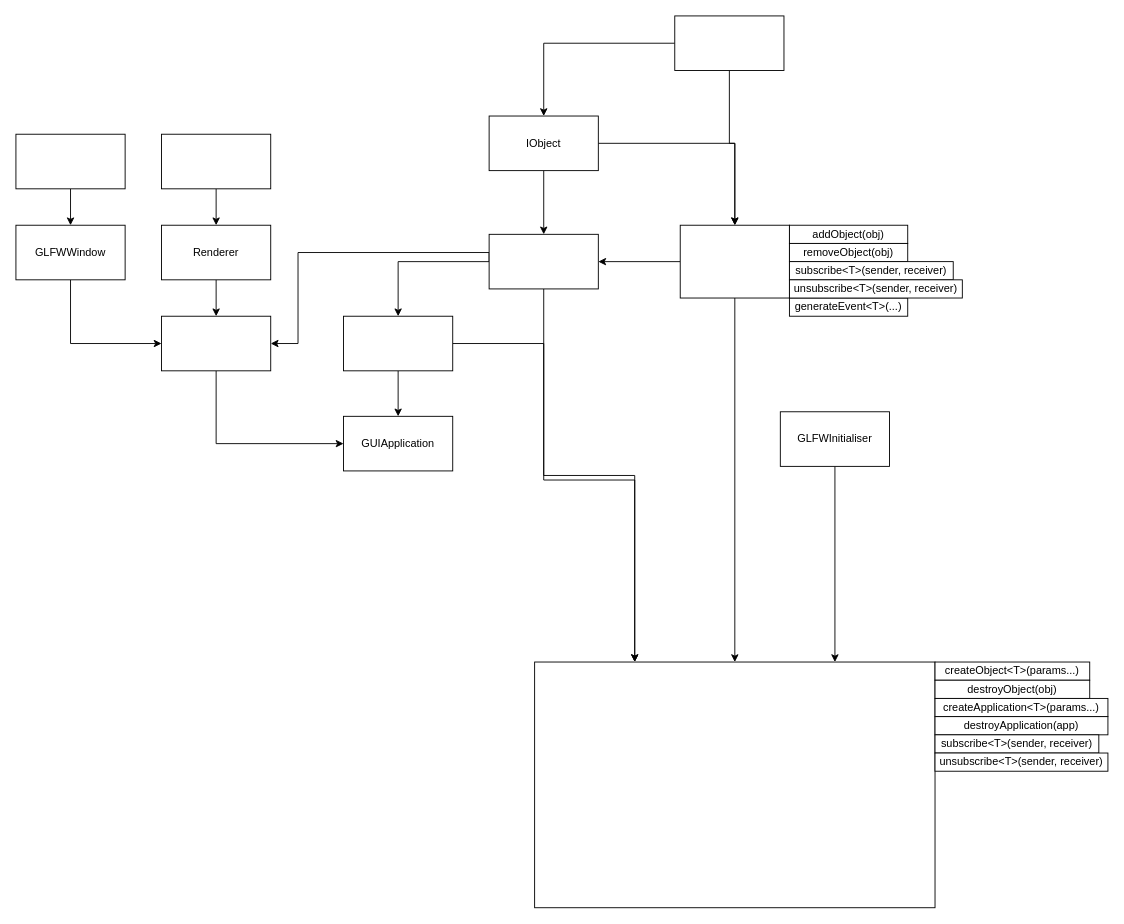
The diagram is 1124 pixels wide and 924 high, and some of its shapes have lost their labels. Here are the shapes that lost their labels. From the top down, the box of each, then its label:
(674, 15, 784, 71): Event
(15, 133, 125, 189): GLFW
(161, 133, 271, 189): VULKAN
(488, 233, 598, 289): Object
(679, 224, 789, 298): EventHandler
(161, 315, 271, 371): Window
(343, 315, 453, 371): Application
(534, 661, 935, 908): RedWolfManager
